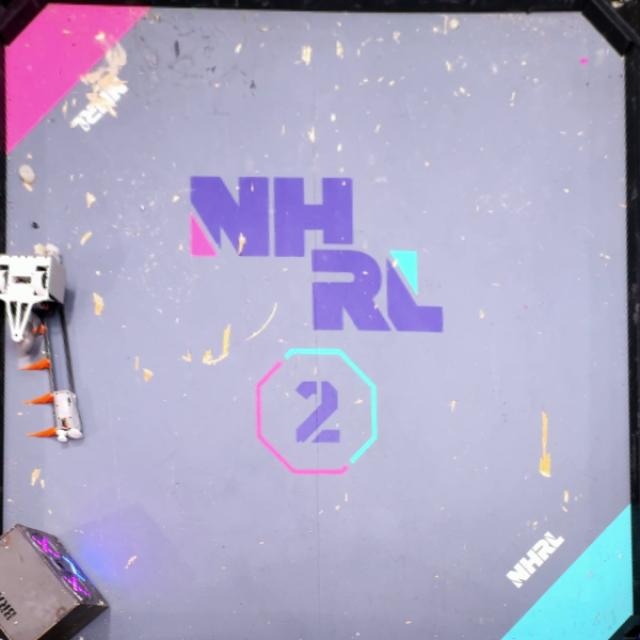housebot: (0, 523, 111, 639)
robot: (21, 323, 85, 442), (0, 252, 68, 349)
